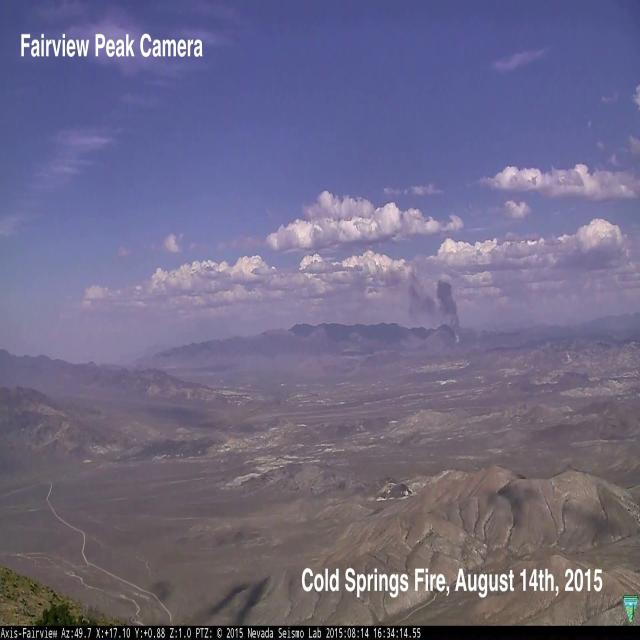smoke: (390, 274, 464, 342)
